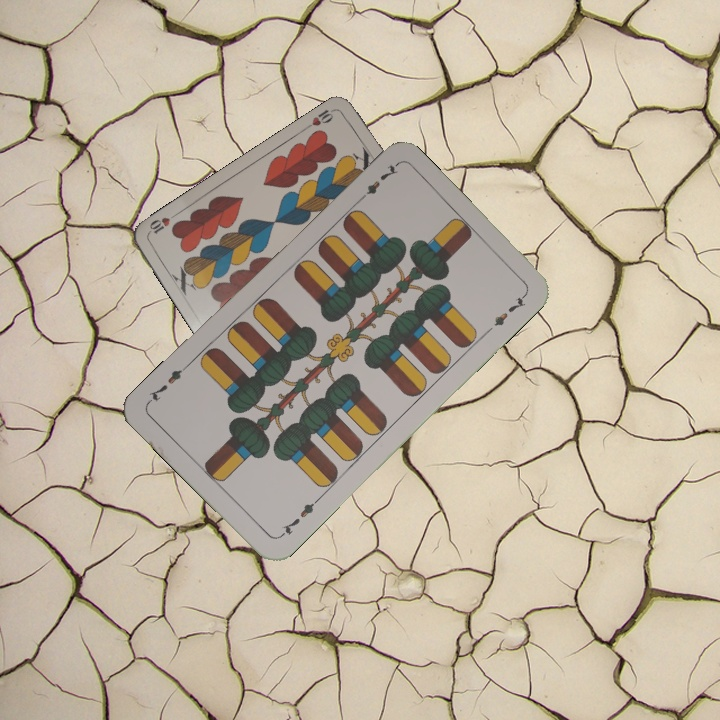E7: (275, 494, 322, 540), (354, 160, 401, 206)
H10: (302, 105, 339, 131)
